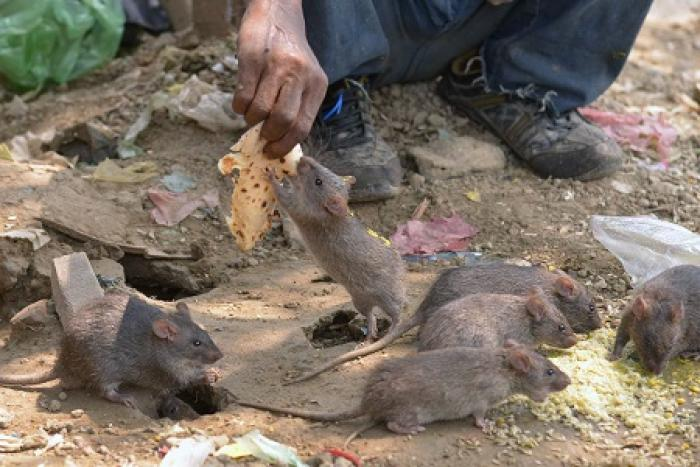rat: (256, 139, 418, 347), (1, 284, 230, 413), (358, 334, 583, 443), (404, 252, 612, 345), (406, 282, 584, 365), (602, 265, 700, 386)
